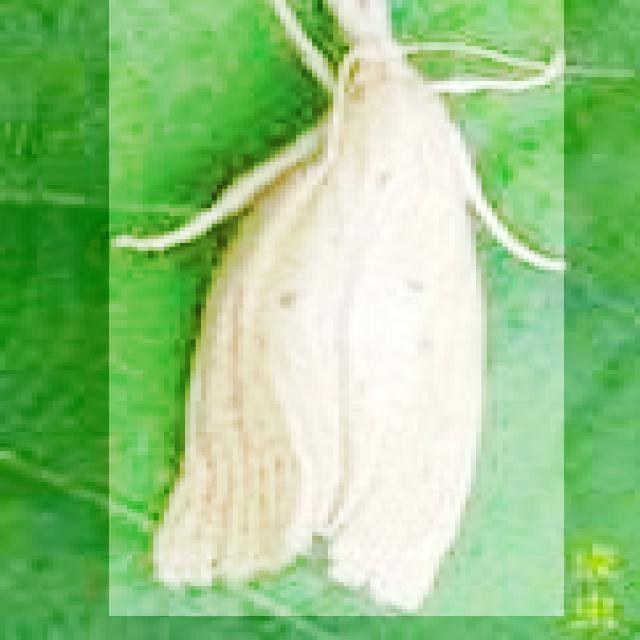stem-borer: (109, 0, 564, 616)
